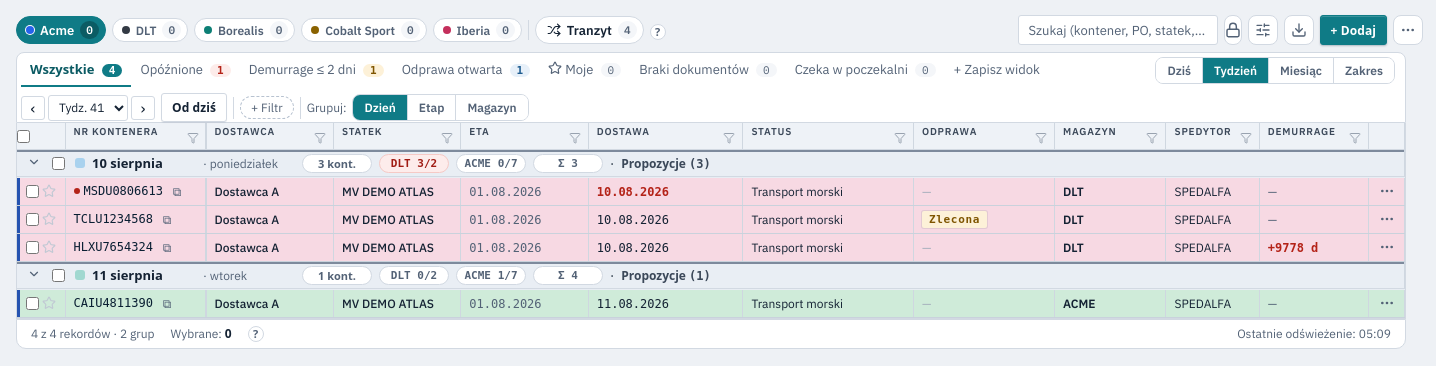
Test: Kolejka Enterprise › grupuj=Etap: bez kolumny Status; Dzień: Status zwykłym tekstem; odprawa „Brak" jako „—"
Check: the text "MSDU0806613" is shown, box [84, 184, 163, 198]
Check: the 1st cell with class "kq-c-customs" reads "—", box [922, 184, 931, 198]
Click the button "Etap".
click(431, 108)  # box [407, 95, 455, 120]
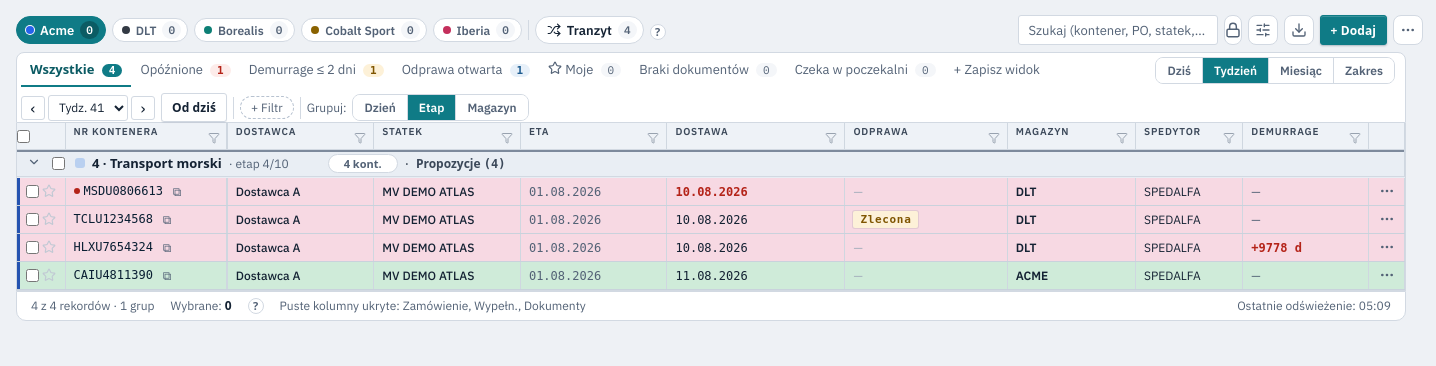
Check: the cell with class "kq-c-status" is gone
Check: the column heading "Status" is gone
